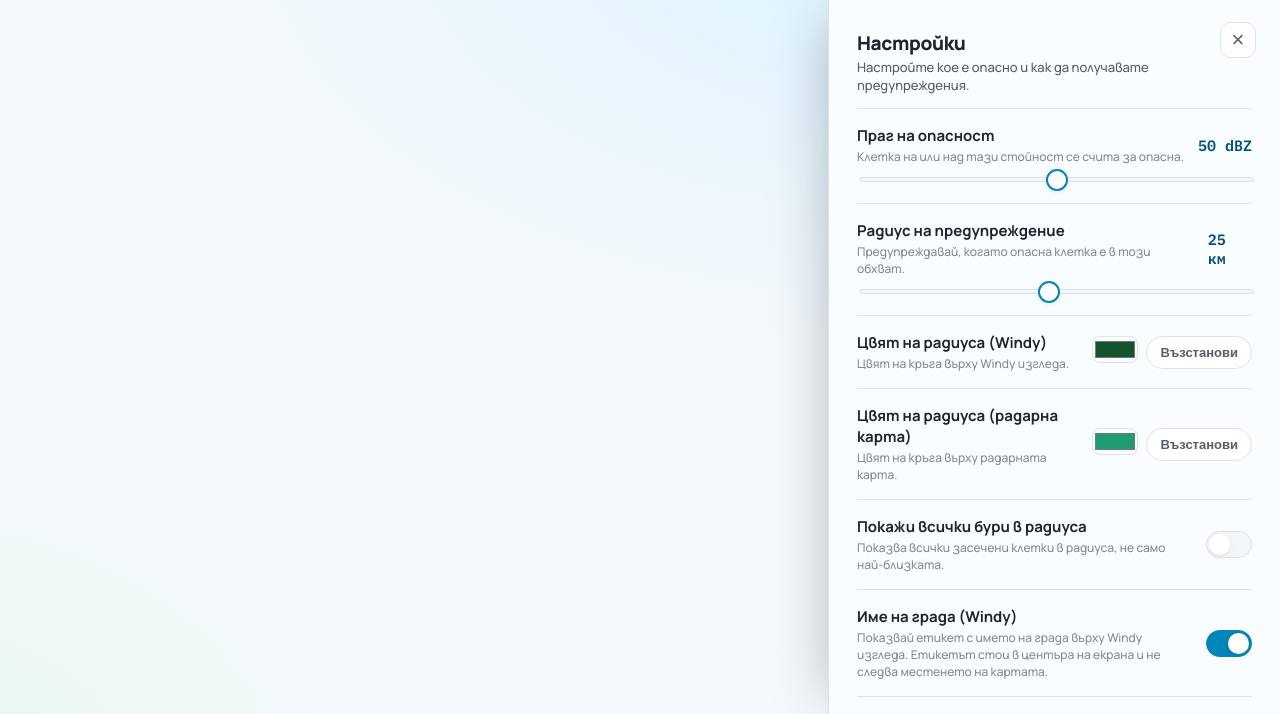
SettingsSheet – radius circle colours › the Windy reset returns only the Windy colour to its default
This screenshot has width=1280, height=714.
Type "#112233" into the colour field named "Цвят на радиуса (Windy)" at [1115, 349], box x1=1092 y1=336 x2=1138 y2=362
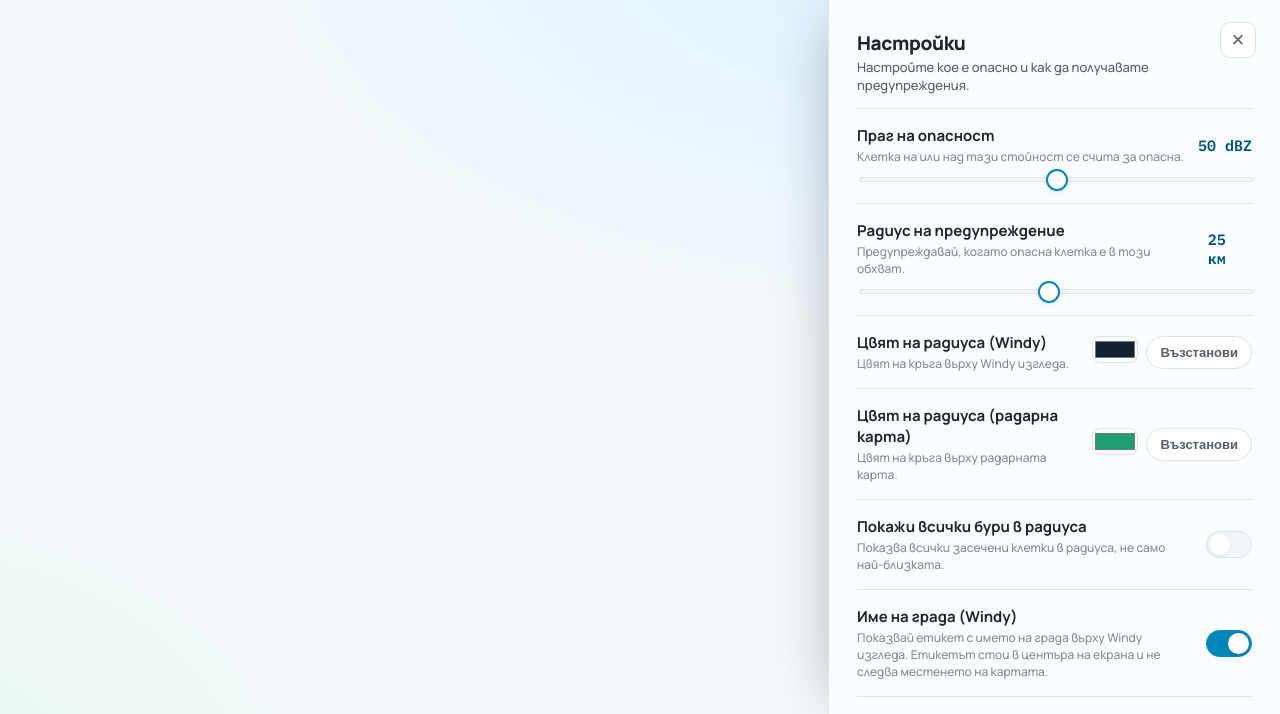
Type "#aabbcc" into the colour field named "Цвят на радиуса (радарна карта)" at [1115, 441], box x1=1092 y1=428 x2=1138 y2=454
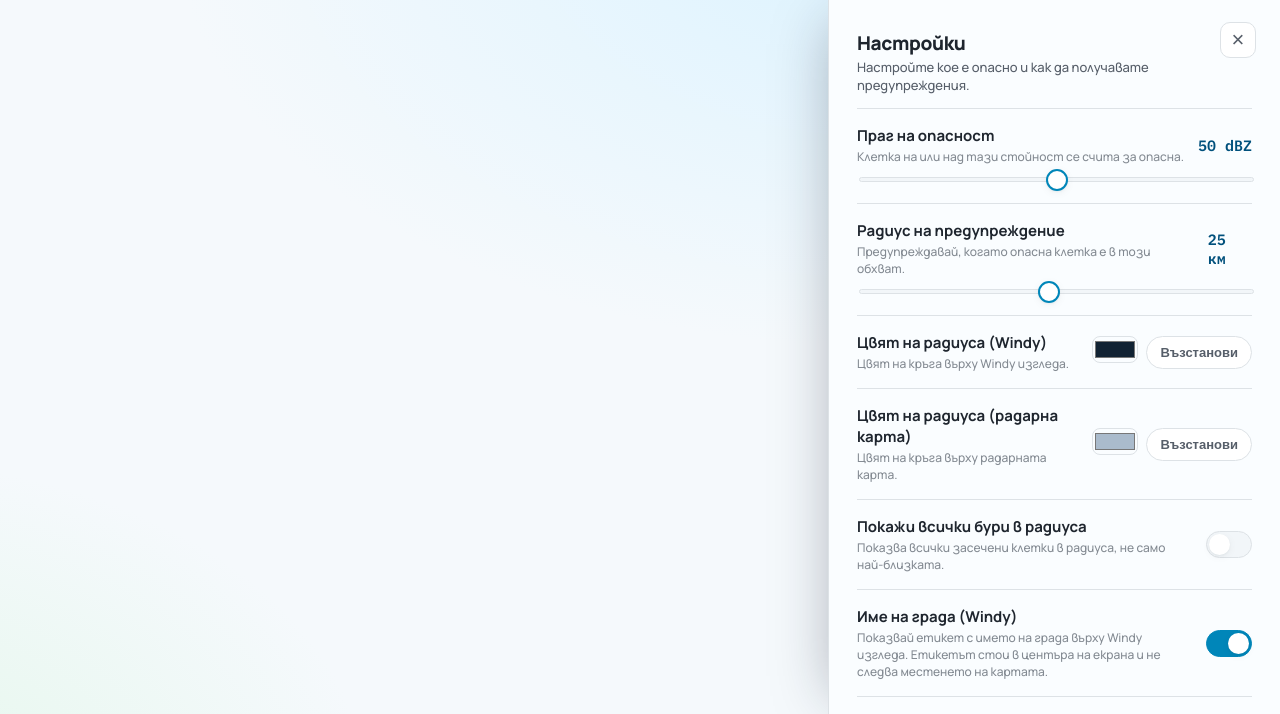
Click the button "Възстанови" next to "Цвят на кръга върху Windy изгледа." at [1199, 352], box x1=1146 y1=336 x2=1252 y2=368
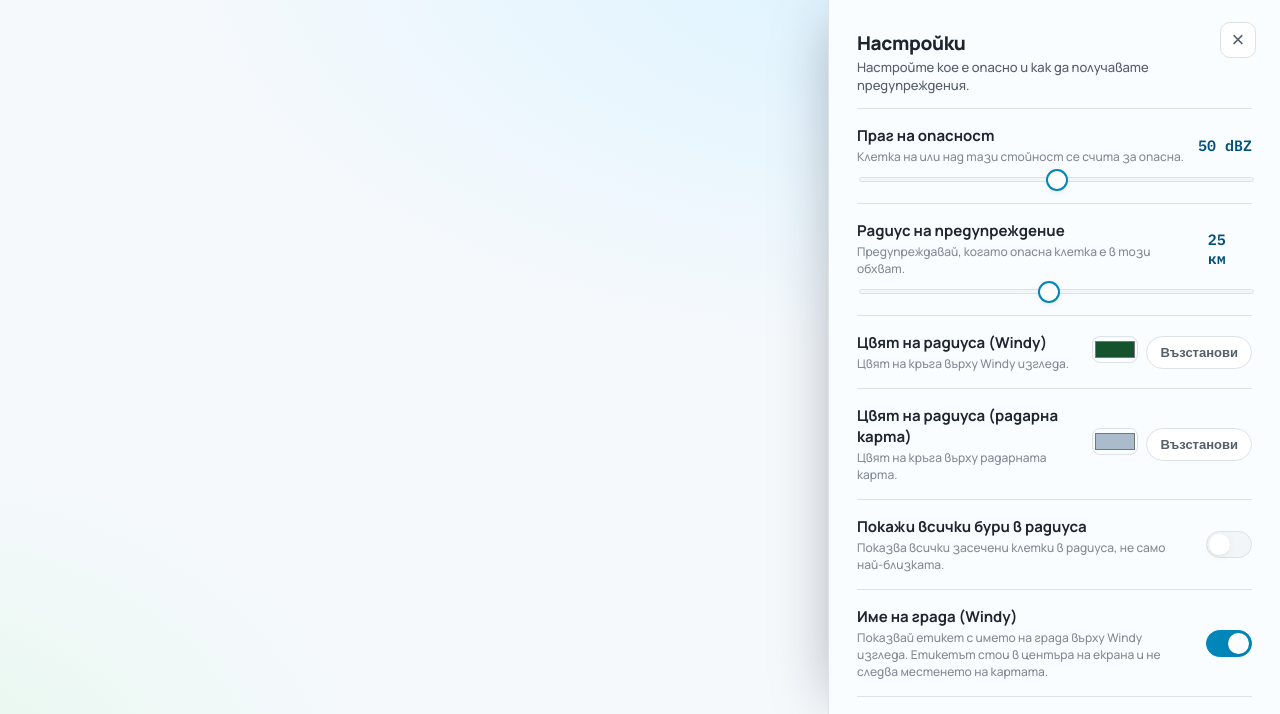
Expected: the colour field named "Цвят на радиуса (Windy)" holds "#14532d", x1=1092 y1=336 x2=1138 y2=362
